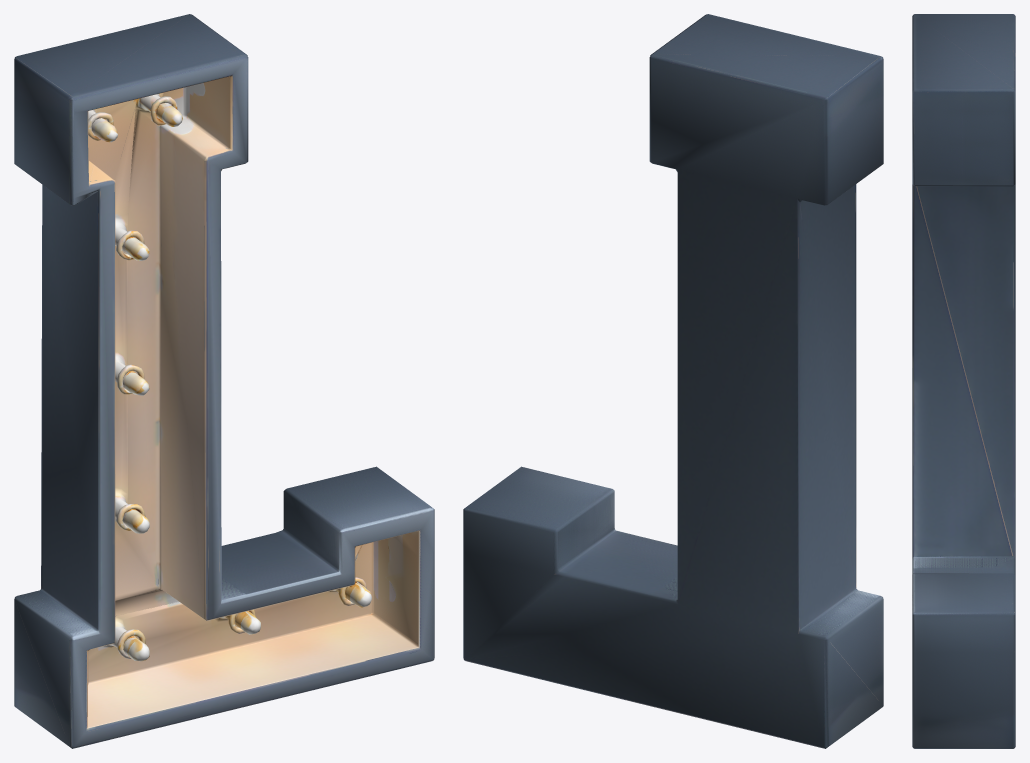
Rendered from Letter_L.glb.
3 renders of one model, left to right at view 1: azimuth 30°, elevation 25°; view 2: azimuth 150°, elevation 25°; view 3: azimuth 270°, elevation 25°, orthographic. The views are drawn at different scales.
Parts seen in each view (by area): view 1: Mesh_0; view 2: Mesh_0; view 3: Mesh_0.
Part boxes in pixels (x1,y1,x2,y2): Mesh_0: (14,14,434,748); Mesh_0: (463,14,883,748); Mesh_0: (912,14,1015,748).
Size of the model in its own units: 0.5351 by 0.9144 by 0.1483.
Materials: 1 (1 with a texture image).
